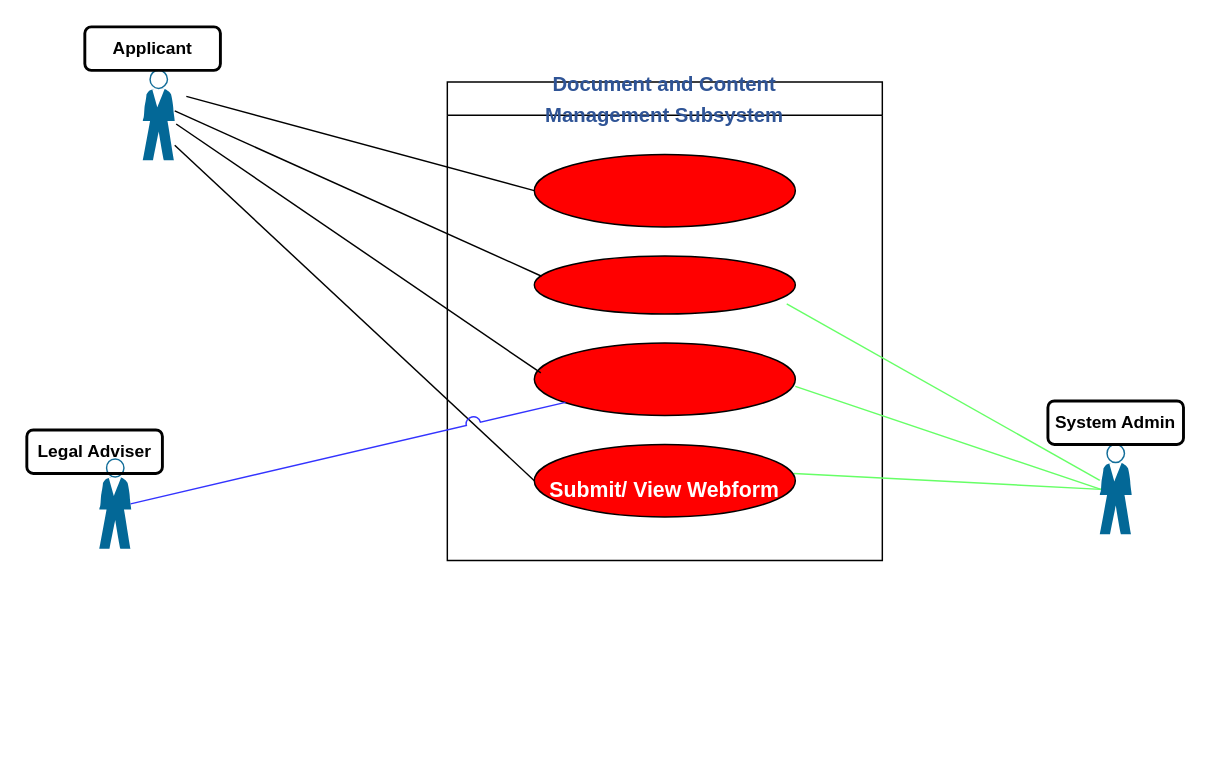
Some shapes in this 1209 by 773 pixel diagram are drawn without their labels. Here are the shapes that lost their labels. From the top down, the centre of each, then its label:
At point 664,190: "Upload Document".
At point 664,284: "Search Document".
At point 664,378: "View Document".
